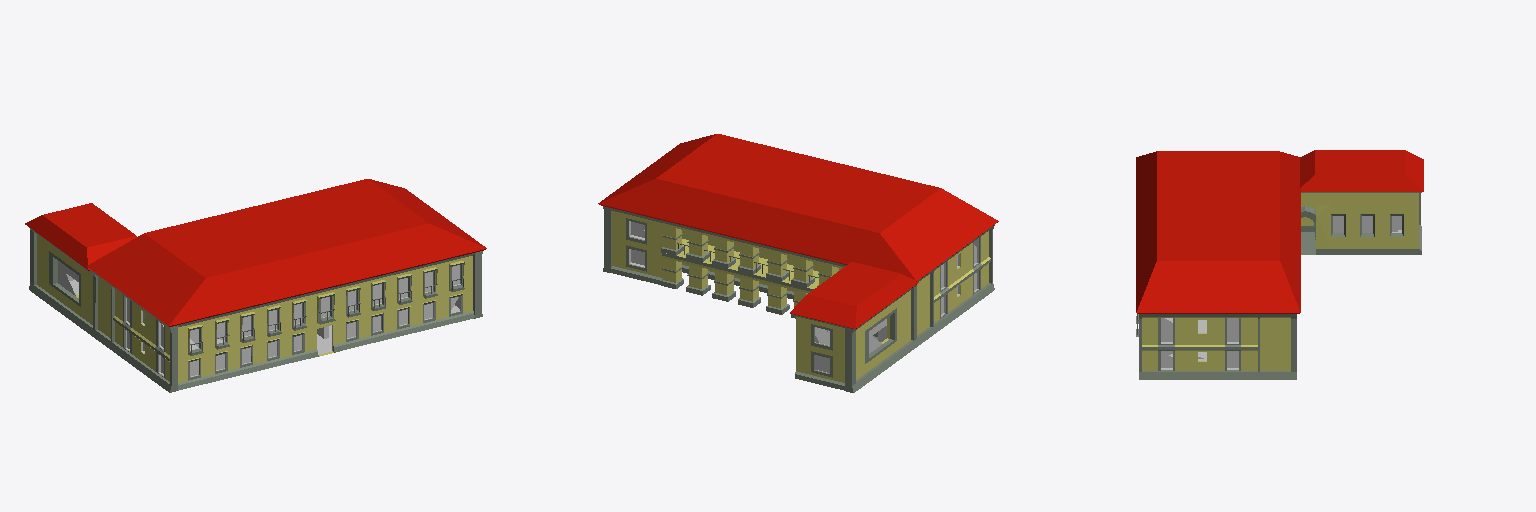
3 views of the same model, side by side, from view 1: azimuth 30°, elevation 25°; view 2: azimuth 150°, elevation 25°; view 3: azimuth 270°, elevation 25° (orthographic).
Parts seen in each view (by area): view 1: Cube.001; view 2: Cube.001; view 3: Cube.001.
Boxes of the visible parts, <box> form: Cube.001: <box>25,179,486,392</box>; Cube.001: <box>598,134,998,392</box>; Cube.001: <box>1136,150,1423,379</box>.
Bounding box in the file's own units: 7.95 × 2.38 × 6.21.